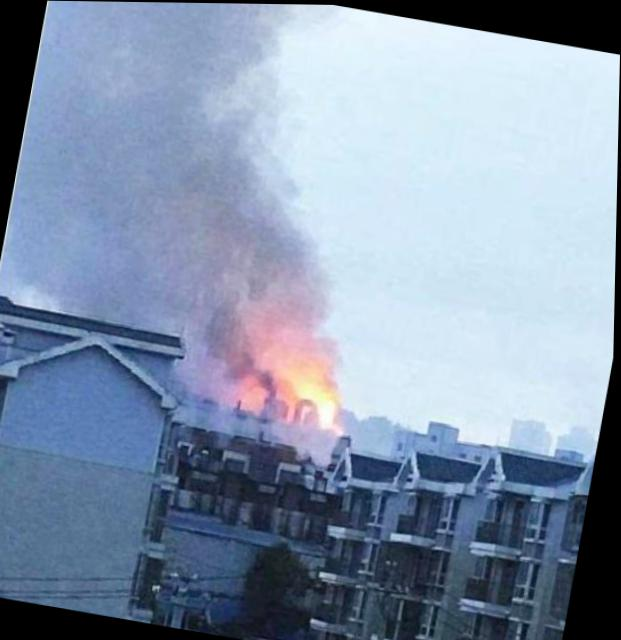fire: (311, 388, 342, 429), (287, 371, 328, 399)
